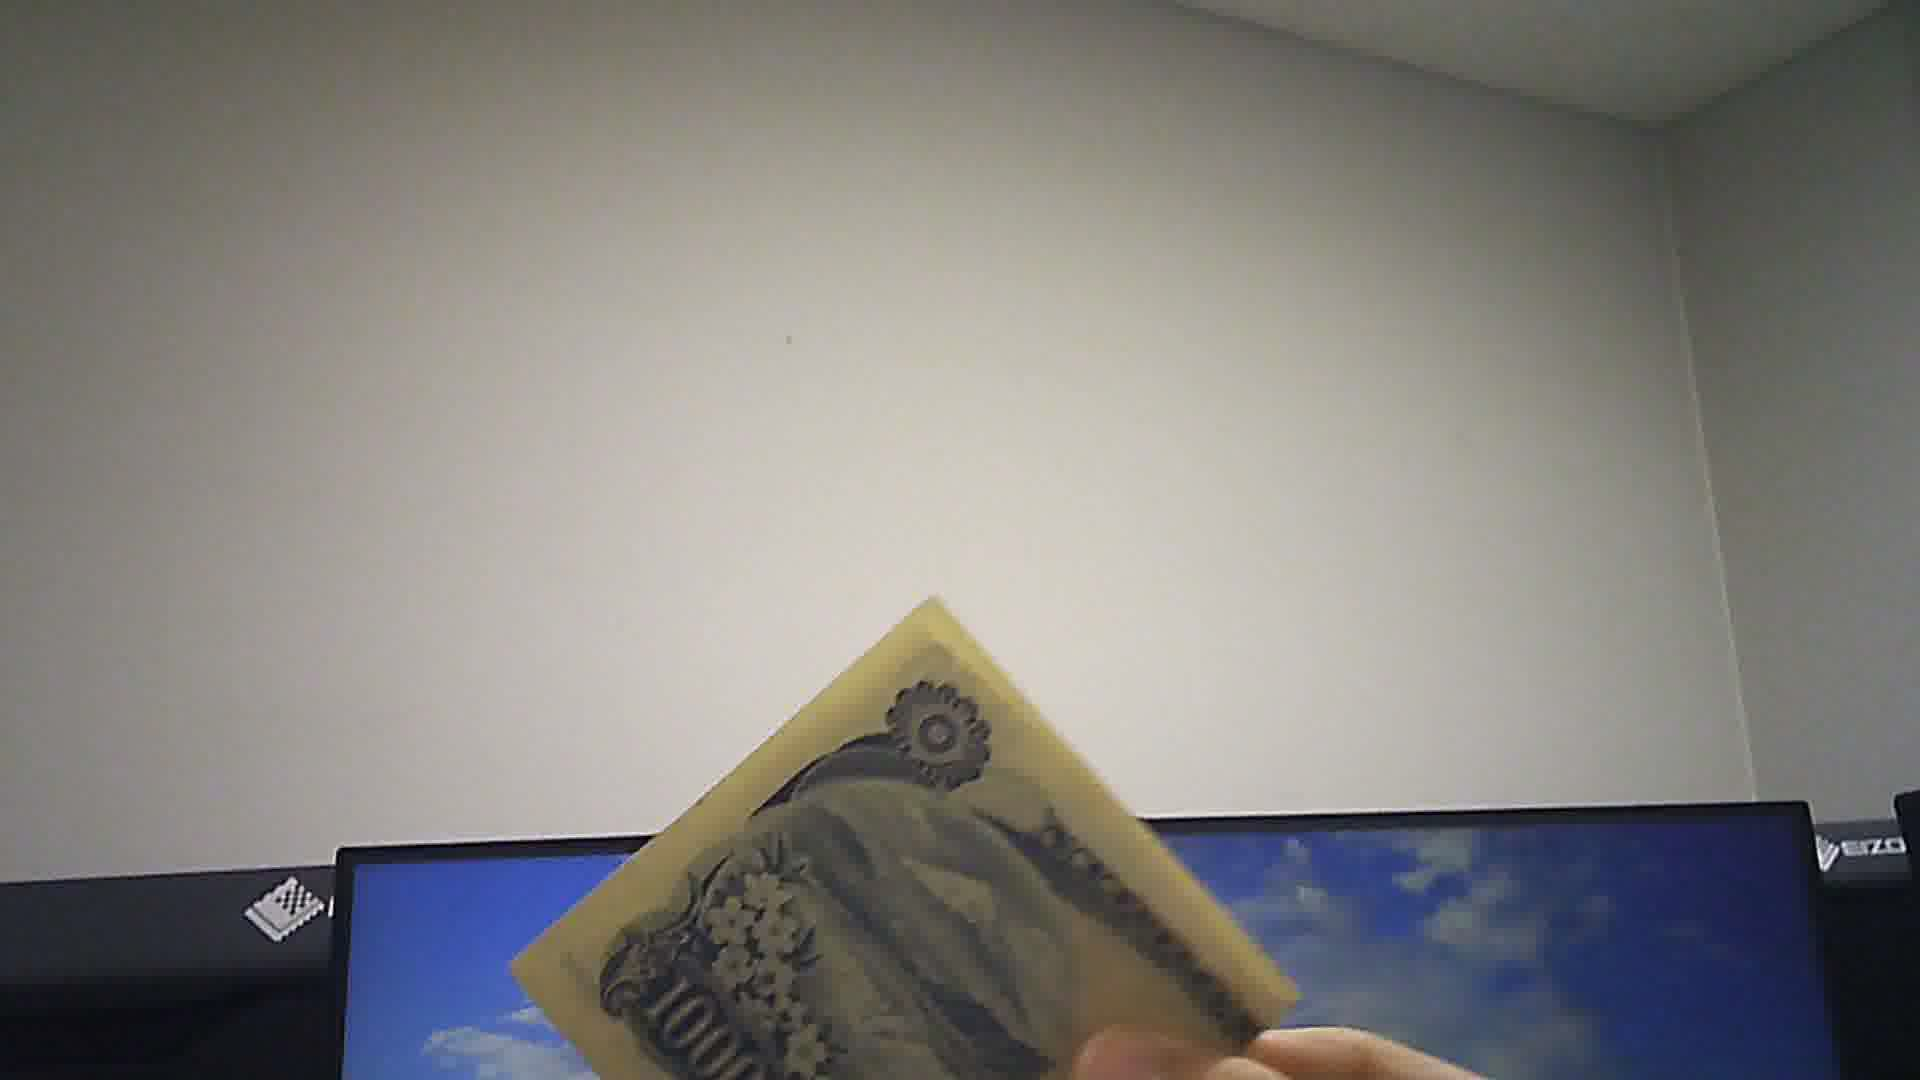1,000 Yen: (491, 597, 1302, 1079)
